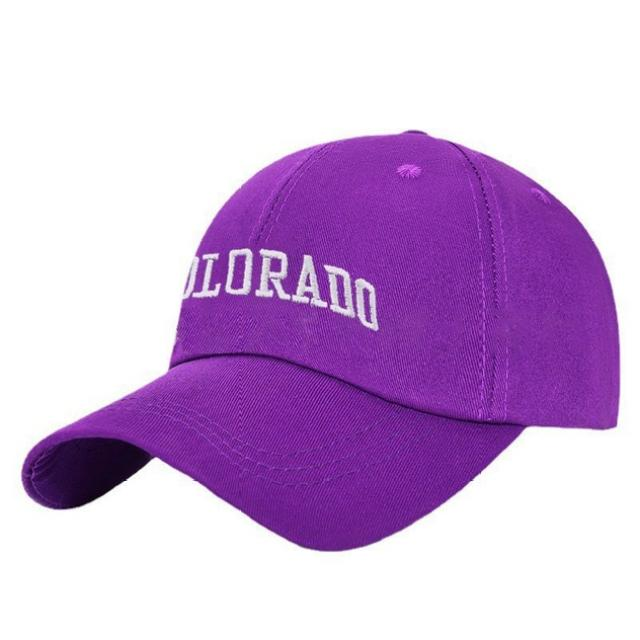Nonhelmet: (19, 126, 622, 553)
